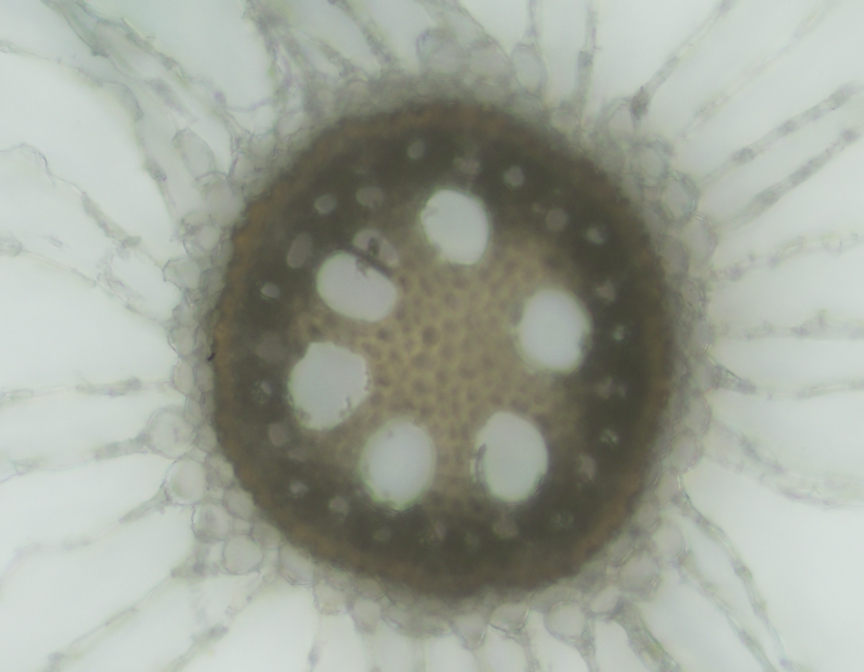lm: (315, 228, 400, 321), (358, 417, 437, 512), (287, 340, 371, 429), (469, 410, 549, 501), (513, 285, 591, 372), (421, 188, 490, 266)
